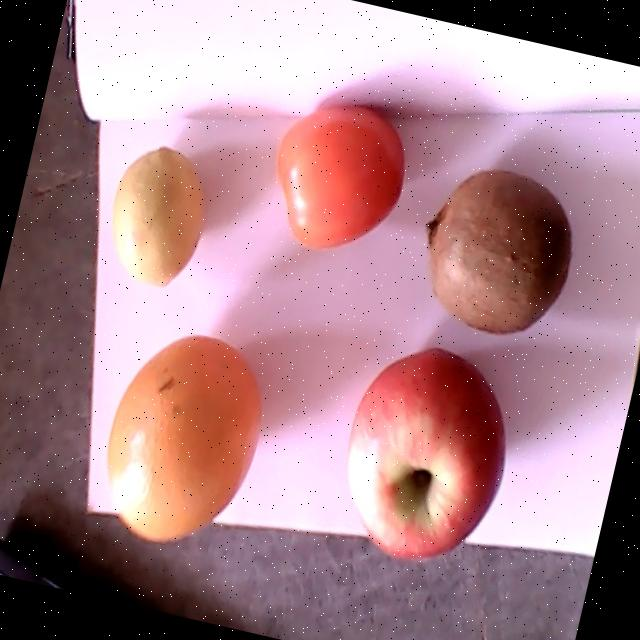apple: (344, 345, 504, 560)
kiwi: (424, 168, 571, 331)
lemon: (110, 145, 204, 286)
orange: (106, 336, 262, 541)
tomato: (275, 102, 404, 250)
